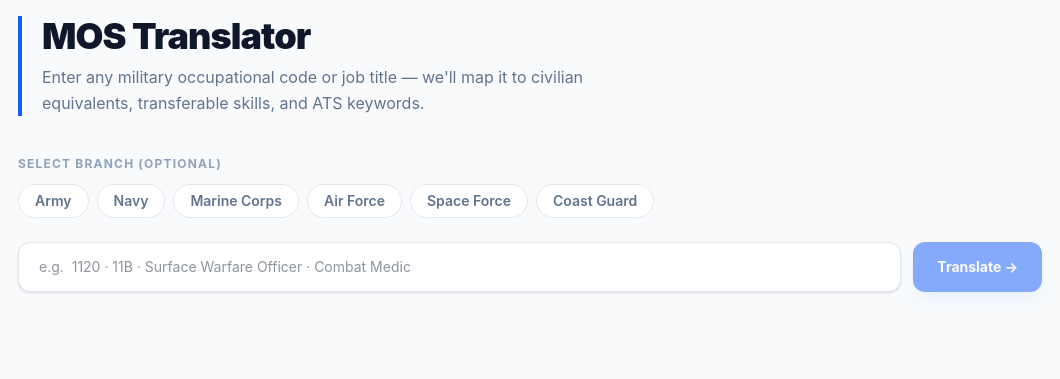
Test: TranslatorPage › displays an error message when the translation API returns an error
In the field: (460, 267) [18,242,901,292], type "11B"
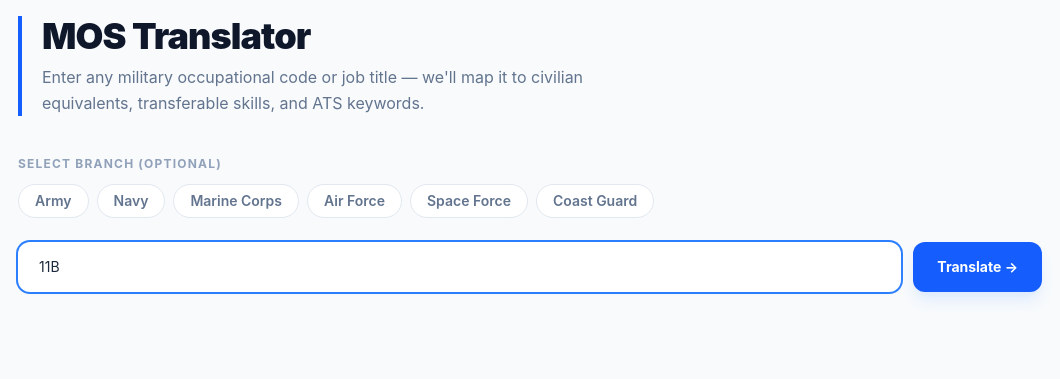
Click the button "Translate →": (978, 267) [913,242,1042,292]
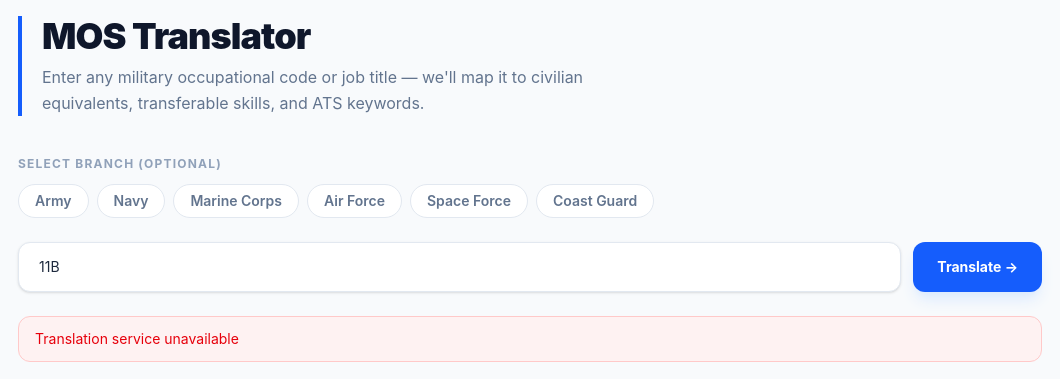
expect the text "Translation service unavailable" is shown: met, box [18,316,1042,362]
